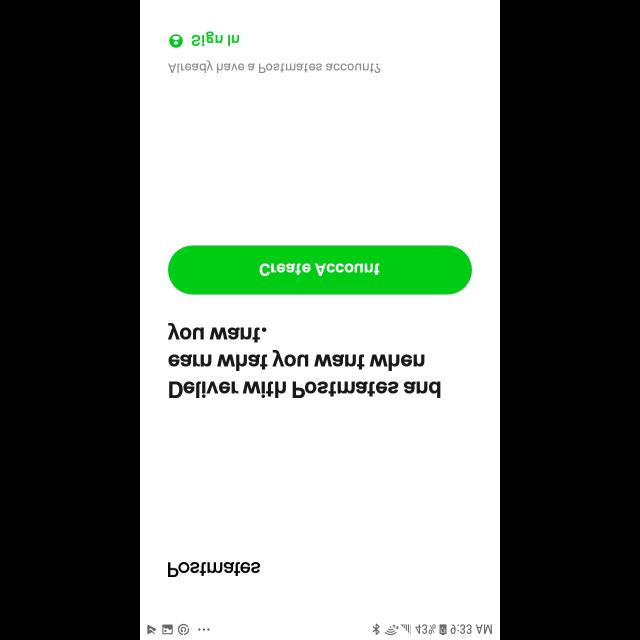icon: (169, 34, 183, 48)
text: (169, 322, 441, 398), (168, 60, 380, 74), (168, 562, 260, 576), (192, 32, 240, 46)
textbutton: (168, 246, 472, 294)
uppertaskbar: (140, 622, 500, 640)
